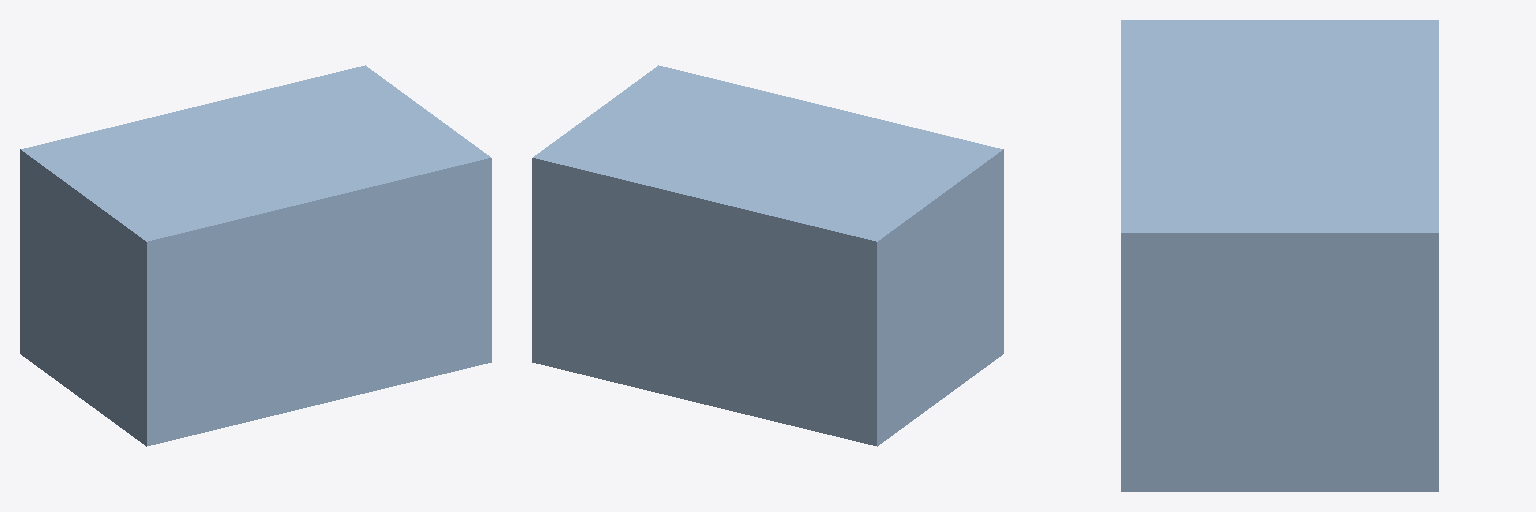
robot.urdf — box_28:
<?xml version='1.0' encoding='utf-8'?>
<robot name="box_28">
  <link name="baseLink">
    <inertial>
      <mass value="0.1" />
      <origin xyz="0 0 0" />
      <inertia ixx="0.002" ixy="0" ixz="0" iyy="0.002" iyz="0" izz="0.002" />
    </inertial>
    <visual name="visual_000">
      <origin rpy="0 0 0" xyz="0 0 0" />
      <geometry>
        <mesh filename="../../../../../../data/ds_as_data/carryany_filter_scale_noscale_keep169_20260513_plus_box_teacher_rollout_success155_bcleb5oi58000_final0p5_primitiveproj_solid80_clean_box_bin_barrel_ball/objects/motion_bank_box_28/box_28.obj" scale="1 1 1" />
      </geometry>
      <material name="mat">
        <color rgba="0.7 0.8 0.9 0.7" />
      </material>
    </visual>
    <collision name="collision_000">
      <origin rpy="0 0 0" xyz="0 0 0" />
      <geometry>
        <mesh filename="../../../../../../data/ds_as_data/carryany_filter_scale_noscale_keep169_20260513_plus_box_teacher_rollout_success155_bcleb5oi58000_final0p5_primitiveproj_solid80_clean_box_bin_barrel_ball/objects/motion_bank_box_28/box_28.obj" scale="1 1 1" />
      </geometry>
    </collision>
  </link>
</robot>

--- What the picture shows (computed from the rendered views, not written in the file) ---
The picture shows the robot from 3 angles, left to right: view 1: azimuth 30°, elevation 25°; view 2: azimuth 150°, elevation 25°; view 3: azimuth 270°, elevation 25°; orthographic projection.
Model box_28 with 1 links and 0 joints (none), rooted at baseLink, posed every joint at zero.
Visible links, largest first — view 1: baseLink; view 2: baseLink; view 3: baseLink.
Link boxes in pixels (x1,y1,x2,y2): baseLink: [20, 65, 491, 446]; baseLink: [532, 65, 1003, 446]; baseLink: [1121, 20, 1438, 491].
Size in the robot's own frame: 0.5282 by 0.3347 by 0.2998 metres.
Meshes: 1 distinct files referenced, 1 mesh visuals loaded (1 OBJ).
